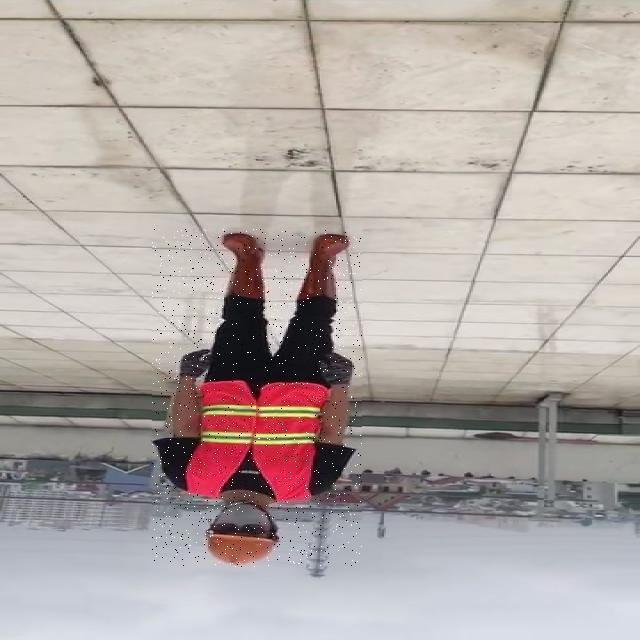Boots: (295, 233, 354, 300), (217, 230, 267, 302)
Gloves: (171, 347, 220, 382), (314, 350, 358, 386)
Helmet: (202, 532, 280, 565)
Vest: (183, 382, 325, 500)
